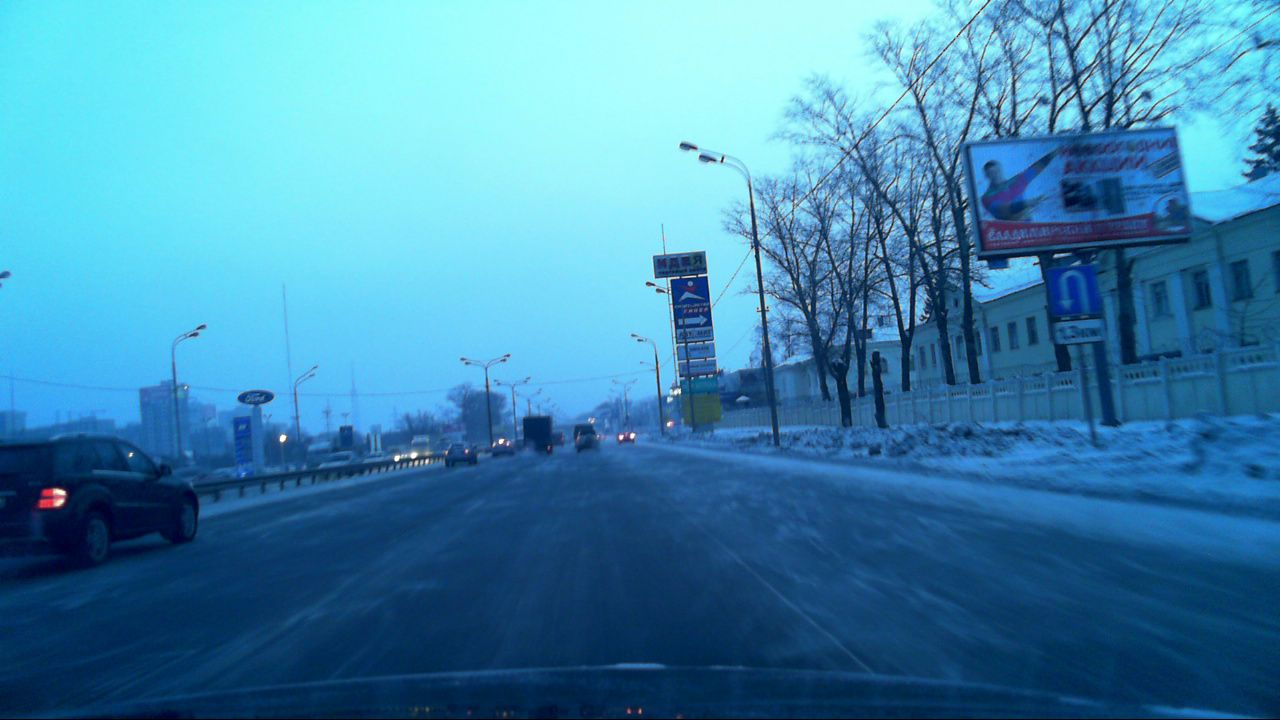U-turn: (1048, 266, 1097, 315)
